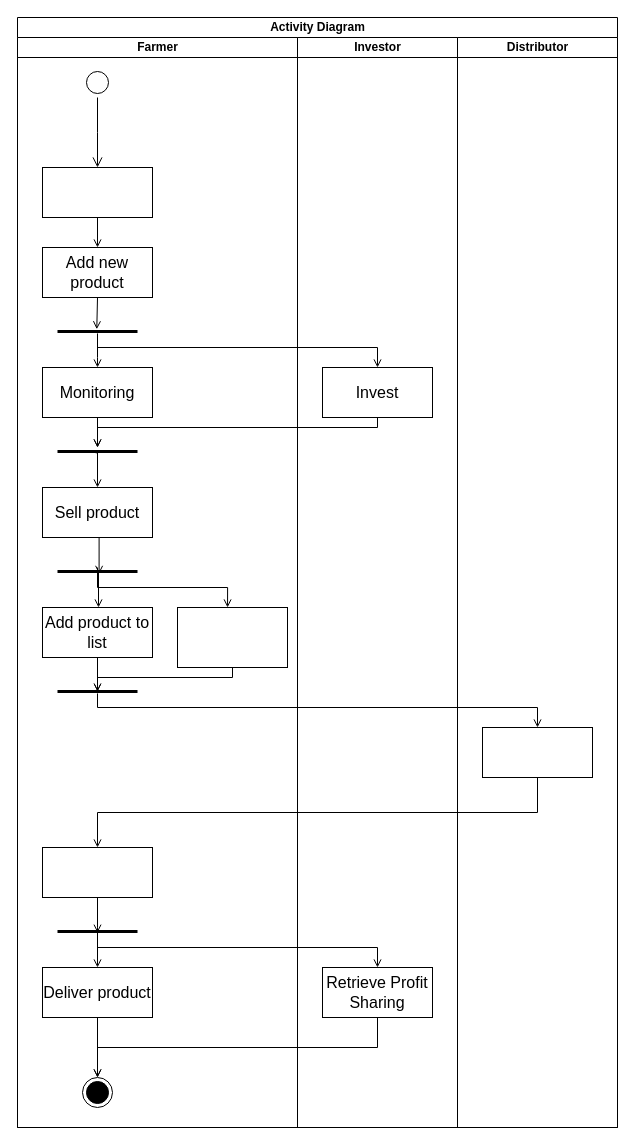
Image size: 635x1145. Some labels were removed from this diagram. Each missing label, with the centre of its shape:
Brought product: pixel 537 752
Login: pixel 97 192
Modify Status and description: pixel 232 637
Process transaction: pixel 97 872
